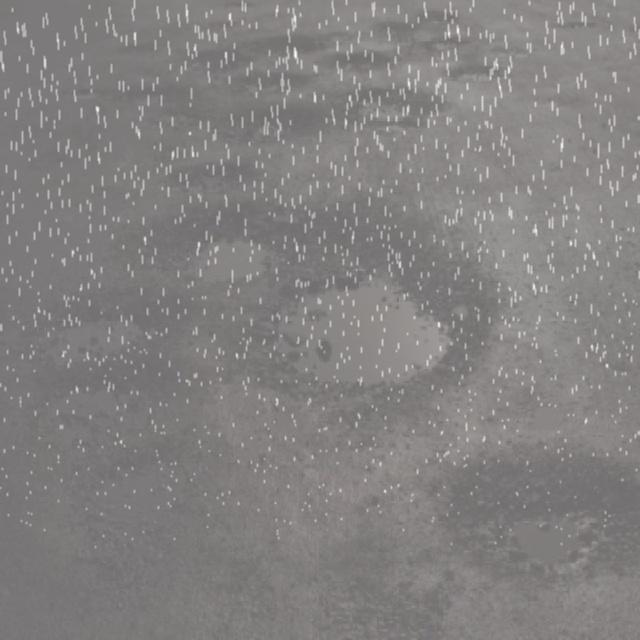Pothole: (181, 206, 482, 390), (135, 25, 521, 139), (435, 444, 640, 573)
